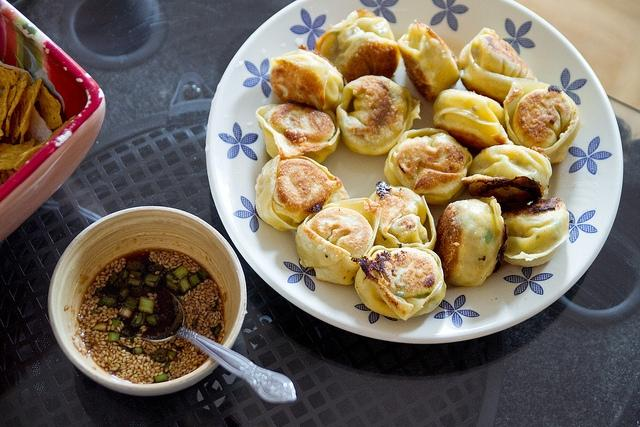green onion: (96, 294, 120, 308), (138, 297, 154, 314), (130, 310, 145, 327), (144, 273, 160, 287), (172, 266, 188, 280), (118, 306, 134, 319), (197, 268, 210, 282), (125, 296, 138, 310), (154, 348, 167, 362), (166, 280, 180, 292), (180, 278, 190, 294), (146, 315, 160, 326), (154, 372, 168, 382), (111, 319, 121, 331), (108, 332, 120, 342), (128, 278, 142, 286), (190, 274, 200, 285), (130, 271, 142, 280), (120, 288, 130, 298), (118, 281, 126, 288), (134, 348, 142, 354)
